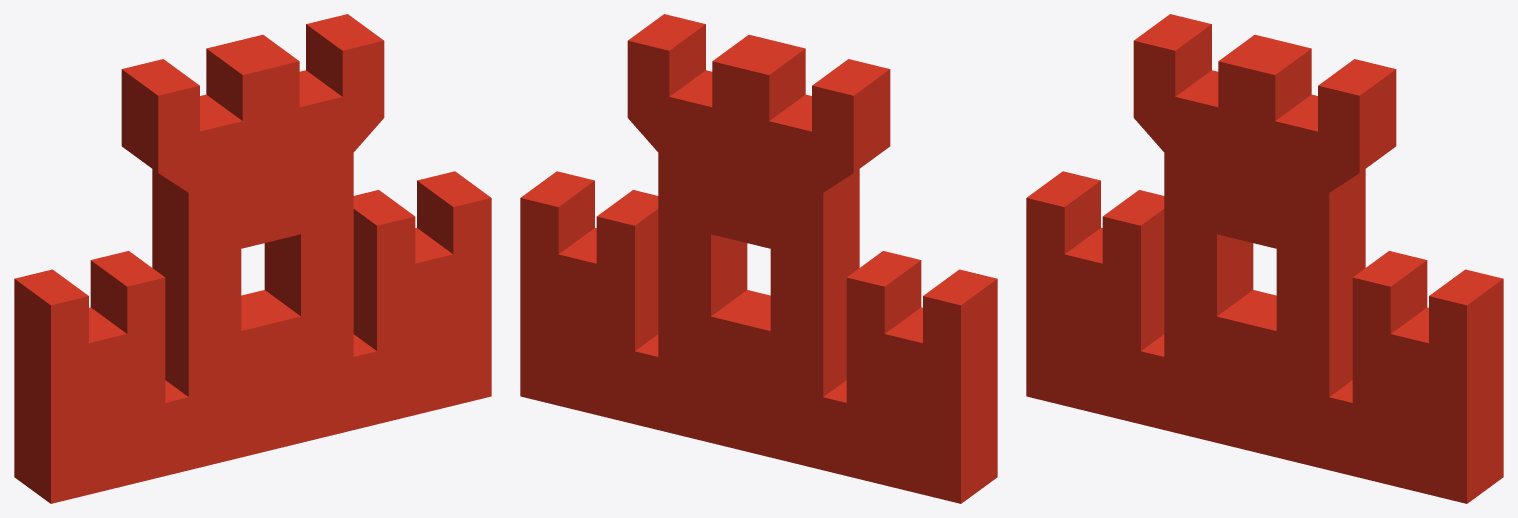
The model's file is Icon_Castle_02.fbx.
3 views of the same model, side by side, from view 1: azimuth 30°, elevation 25°; view 2: azimuth 150°, elevation 25°; view 3: azimuth 330°, elevation 25° (orthographic).
Visible parts, largest first — view 1: Icon_Castle_02; view 2: Icon_Castle_02; view 3: Icon_Castle_02.
Boxes of the visible parts, x1,y1,x2,y2 form: Icon_Castle_02: (14, 14, 491, 503); Icon_Castle_02: (520, 14, 997, 503); Icon_Castle_02: (1026, 14, 1503, 503).
Size of the model in its own units: 84.21 by 69.76 by 12.06.
